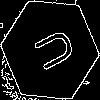U: (25, 25, 77, 78)
